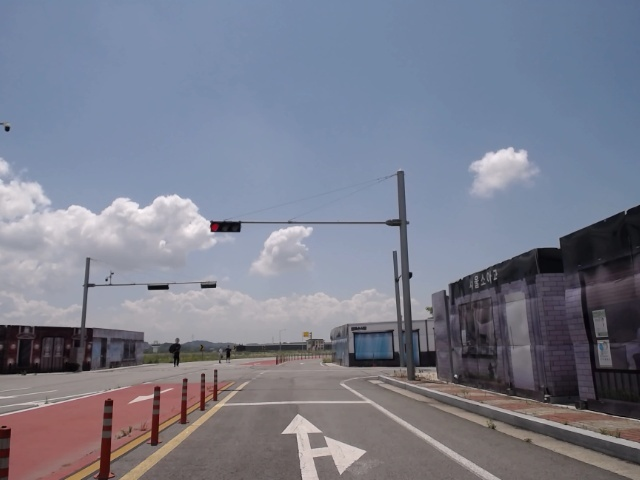red_3: (210, 222, 241, 233)
